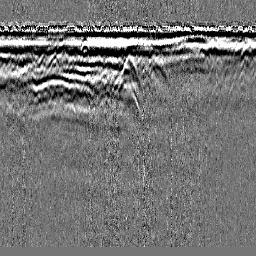cavity: (114, 54, 142, 88)
